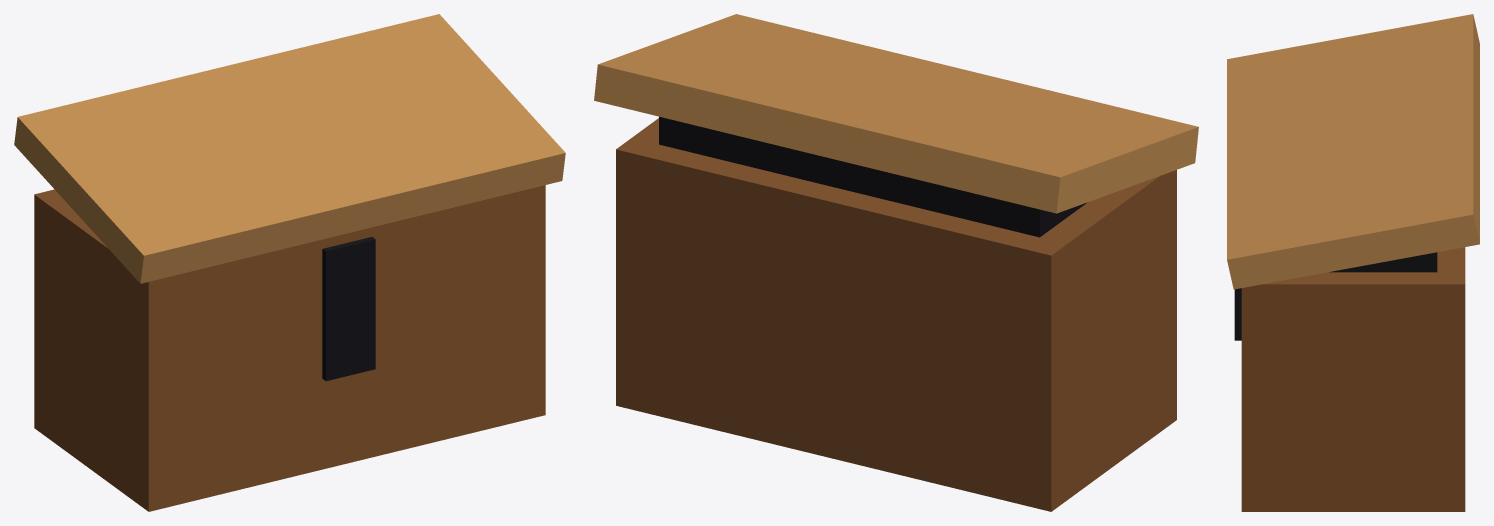
The model's file is offering_box.glb.
3 renders of one model, left to right at view 1: azimuth 30°, elevation 25°; view 2: azimuth 150°, elevation 25°; view 3: azimuth 270°, elevation 25°, orthographic. The views are drawn at different scales.
Parts seen in each view (by area): view 1: offering_box; view 2: offering_box; view 3: offering_box.
Boxes of the visible parts, x1=… form: offering_box: x1=14, y1=14, x2=565, y2=511; offering_box: x1=594, y1=14, x2=1198, y2=511; offering_box: x1=1227, y1=14, x2=1479, y2=511.
Size of the model in its own units: 1.7 by 1.2 by 0.9059.
